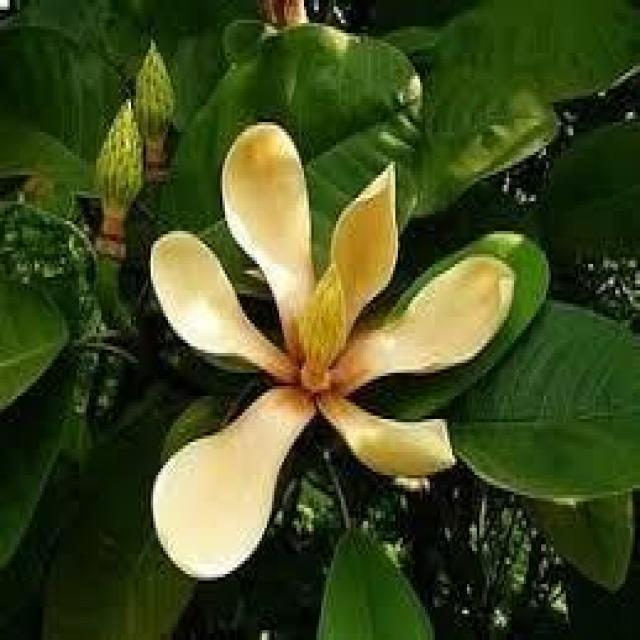organic waste: (132, 127, 518, 553)
